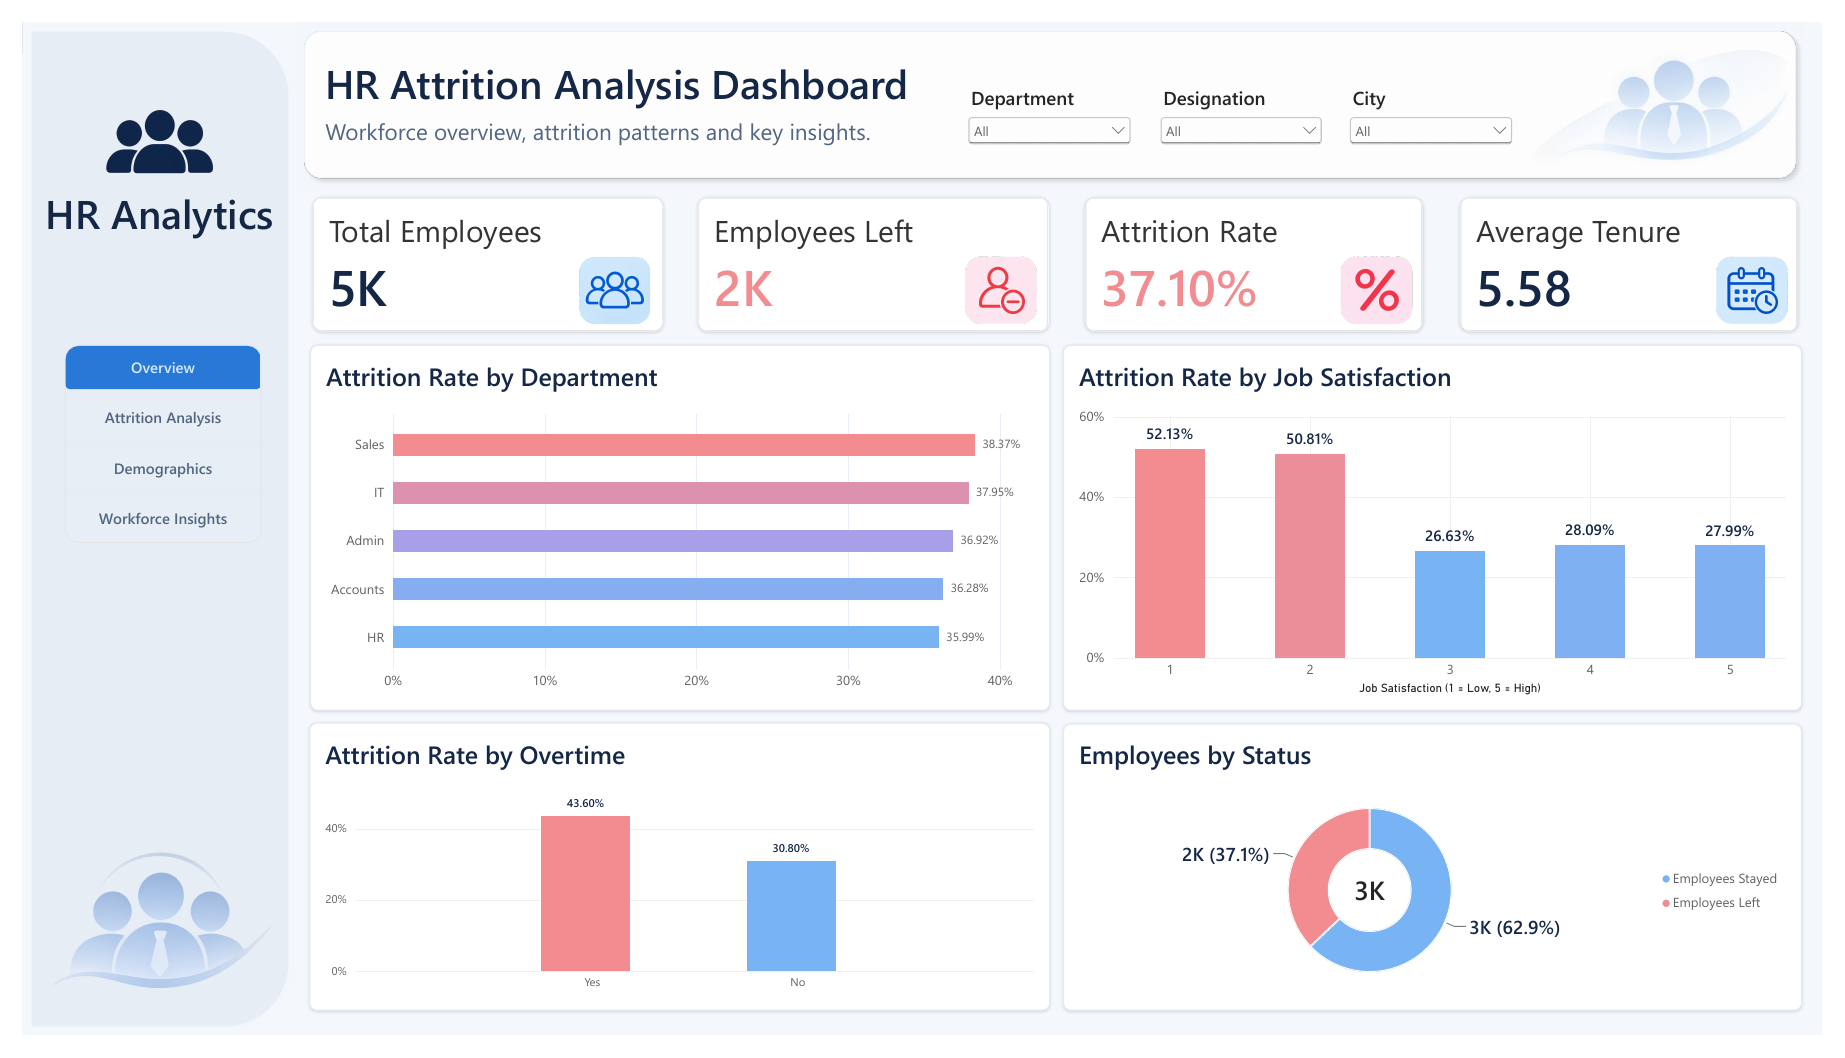

The page's visual inventory and layout, read from the dashboard file:
{"tool":"powerbi","page":{"name":"Overview","canvas":[1920,1080],"ordinal":0},"visuals":[{"type":"shape","box":[292,0,1608,175],"z":0},{"type":"clusteredBarChart","title":"Attrition Rate by Department","fields":{"Category":["HR_Attrition_Indian_Dataset.Department"],"Y":["HR_Attrition_Indian_Dataset.Attrition Rate"]},"box":[307.1,344.3,788.6,390],"z":1000},{"type":"clusteredColumnChart","title":"Attrition Rate by Overtime","fields":{"Category":["HR_Attrition_Indian_Dataset.DoesOvertime"],"Y":["HR_Attrition_Indian_Dataset.Attrition Rate"]},"box":[305.7,747.1,790,307.1],"z":2000},{"type":"clusteredColumnChart","title":"Attrition Rate by Job Satisfaction","fields":{"Category":["HR_Attrition_Indian_Dataset.JobSatisfaction"],"Y":["HR_Attrition_Indian_Dataset.Attrition Rate"]},"box":[1110,344,788,390],"z":3000},{"type":"donutChart","title":"Employees by Status","fields":{"Y":["HR_Attrition_Indian_Dataset.Employees Stayed","HR_Attrition_Indian_Dataset.Employees Left"]},"box":[1110,748,788,306],"z":4000},{"type":"cardVisual","title":"Hello","fields":{"Data":["HR_Attrition_Indian_Dataset.Total Employees"]},"box":[308.6,185.7,375.7,144.3],"z":5000},{"type":"cardVisual","fields":{"Data":["HR_Attrition_Indian_Dataset.Employees Left"]},"box":[720,185.7,375.7,144.3],"z":6000},{"type":"cardVisual","fields":{"Data":["HR_Attrition_Indian_Dataset.Attrition Rate"]},"box":[1132.9,185.7,361.4,144.3],"z":7000},{"type":"cardVisual","fields":{"Data":["HR_Attrition_Indian_Dataset.Average Tenure"]},"box":[1532.9,185.7,361.4,144.3],"z":8000},{"type":"slicer","fields":{"Values":["HR_Attrition_Indian_Dataset.Department"]},"box":[1004.3,67.1,182.9,90],"z":9000},{"type":"slicer","fields":{"Values":["HR_Attrition_Indian_Dataset.Designation"]},"box":[1208.6,67.1,182.9,90],"z":10000},{"type":"slicer","fields":{"Values":["HR_Attrition_Indian_Dataset.City"]},"box":[1411.4,67.1,182.9,90],"z":11000},{"type":"textbox","box":[322.5,36.2,628.8,63.8],"z":12000},{"type":"textbox","box":[322.9,100,620,35.7],"z":13000},{"type":"shape","box":[0,0,292.5,1080],"z":14000},{"type":"textbox","box":[25,175,245,225],"z":15000},{"type":"pageNavigator","box":[45,343.8,210,211.2],"z":16000},{"type":"image","box":[546.4,245.5,172,80],"z":17000},{"type":"image","box":[960,245.4,166.9,80],"z":18000},{"type":"image","box":[1360.8,245.4,166.9,80],"z":19000},{"type":"image","box":[1782.3,245.4,124.6,80],"z":20000},{"type":"image","box":[55,40,181.7,156.7],"z":21000},{"type":"image","box":[0,825,300,255],"z":22000},{"type":"image","box":[1595,0,300,175],"z":23000}]}

Visuals, with their boxes in screenshot pixels (x1, y1, x2, y2), scaled from the page's 1920x1080 canvas onto the 1845x1058 screenshot:
shape: Rect(281, 0, 1826, 171)
"Attrition Rate by Department" clusteredBarChart: Rect(295, 337, 1053, 719)
"Attrition Rate by Overtime" clusteredColumnChart: Rect(294, 732, 1053, 1033)
"Attrition Rate by Job Satisfaction" clusteredColumnChart: Rect(1067, 337, 1824, 719)
"Employees by Status" donutChart: Rect(1067, 733, 1824, 1033)
"Hello" cardVisual: Rect(297, 182, 658, 323)
cardVisual - HR_Attrition_Indian_Dataset.Employees Left: Rect(692, 182, 1053, 323)
cardVisual - HR_Attrition_Indian_Dataset.Attrition Rate: Rect(1089, 182, 1436, 323)
cardVisual - HR_Attrition_Indian_Dataset.Average Tenure: Rect(1473, 182, 1820, 323)
slicer - HR_Attrition_Indian_Dataset.Department: Rect(965, 66, 1141, 154)
slicer - HR_Attrition_Indian_Dataset.Designation: Rect(1161, 66, 1337, 154)
slicer - HR_Attrition_Indian_Dataset.City: Rect(1356, 66, 1532, 154)
textbox: Rect(310, 35, 914, 98)
textbox: Rect(310, 98, 906, 133)
shape: Rect(0, 0, 281, 1057)
textbox: Rect(24, 171, 259, 392)
pageNavigator: Rect(43, 337, 245, 544)
image: Rect(525, 240, 690, 319)
image: Rect(922, 240, 1083, 319)
image: Rect(1308, 240, 1468, 319)
image: Rect(1713, 240, 1832, 319)
image: Rect(53, 39, 227, 193)
image: Rect(0, 808, 288, 1057)
image: Rect(1533, 0, 1821, 171)
